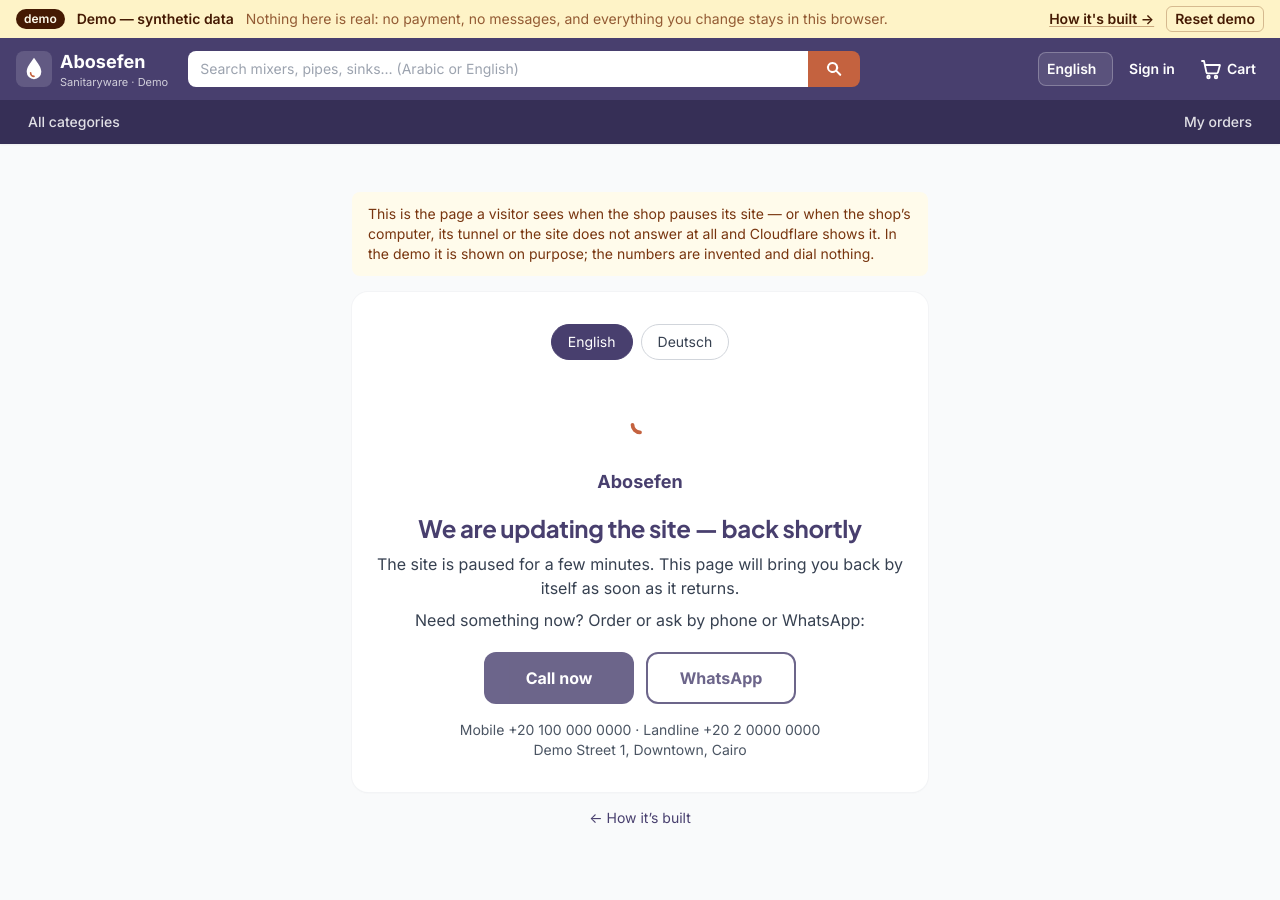
Test: the paused-site page (production's OUT-1 / OUT-2) › opens in English, offers English and German only, and switches the page to German
Expected: the heading "We are updating the site — back shortly" is shown, [418,513,862,543]
What coordinates should you click on to do the following:
click the button "Deutsch"
I would click on:
 (685, 342)
Its box is [640,324,729,360].
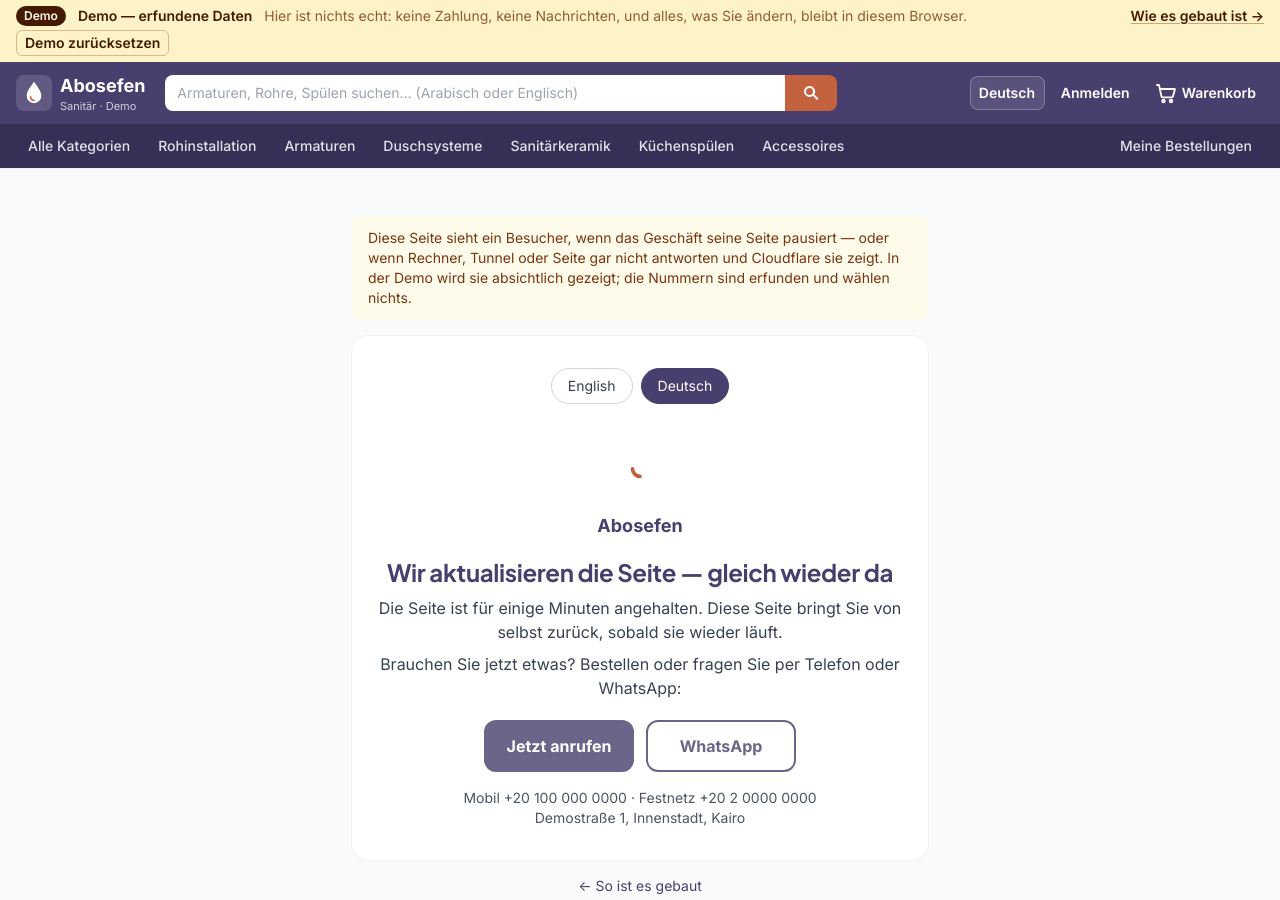
Expected: the heading "Wir aktualisieren die Seite — gleich wieder da" is shown, [376,556,904,588]
